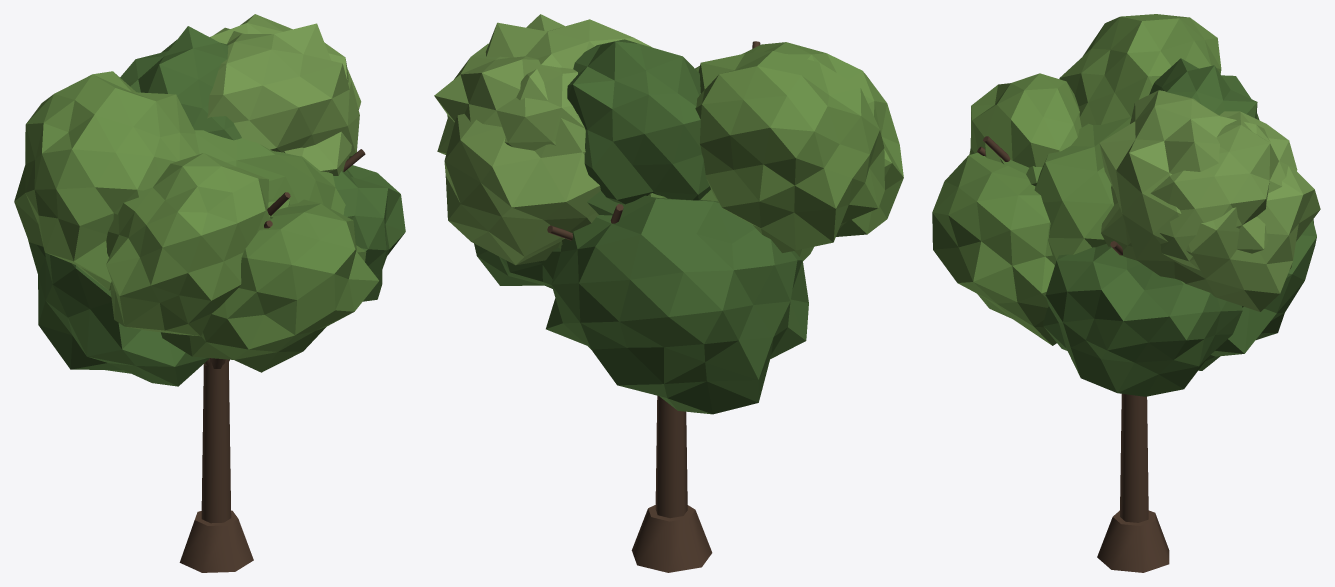
Rendered from tree-broad-2.obj.
3 views of the same model, side by side, from view 1: azimuth 30°, elevation 25°; view 2: azimuth 150°, elevation 25°; view 3: azimuth 270°, elevation 25° (orthographic). The views are drawn at different scales.
Parts seen in each view (by area): view 1: part1; view 2: part1; view 3: part1.
Boxes of the visible parts, x1,y1,x2,y2 form: part1: [14, 14, 405, 572]; part1: [434, 14, 903, 572]; part1: [932, 14, 1320, 572].
Bounding box in the file's own units: 5.56 × 7.36 × 5.21.
